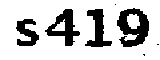1: (84, 7, 112, 50)
4: (45, 7, 80, 47)
9: (117, 6, 151, 51)
s: (14, 18, 37, 51)
